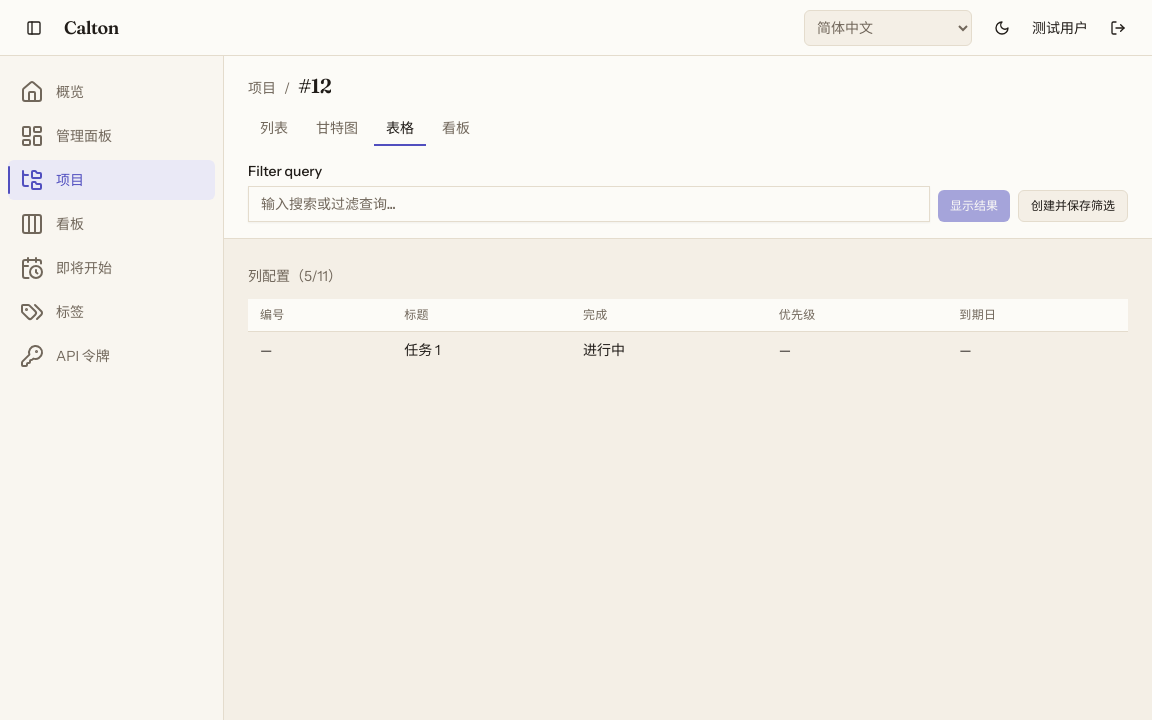
Scenario: ★ Table 视图：sort_by / order_by 按下标成对 › 点一列发出一对参数
Expected: the row with test id "task-table-row" is shown, 248,332 -> 1128,368
Click the button "到期日" at coordinates (978, 315), box 959,307 -> 996,323
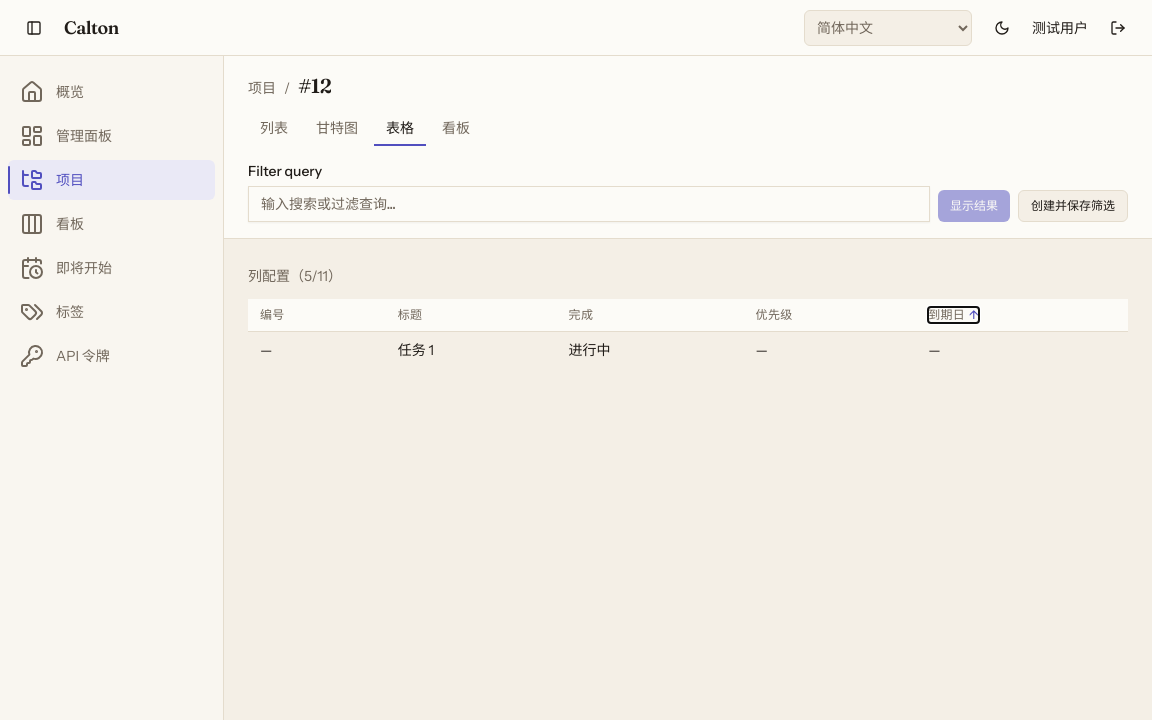
Expected: the text "↑" is shown, 969,307 -> 979,323
